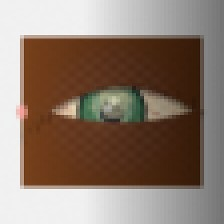corneal_ulcer: (87, 82, 140, 124)
